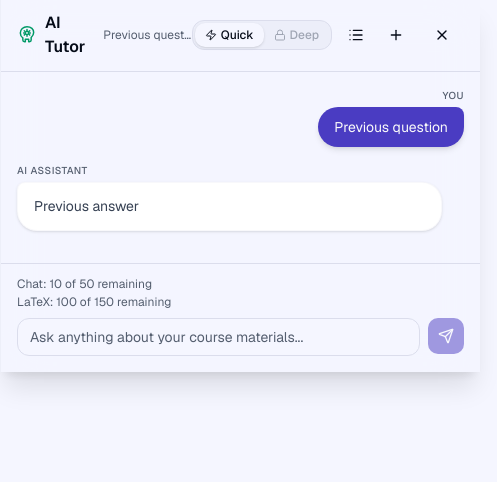
Test case: AiChatPanel › includes conversationId in the POST body when a conversation is loaded
Expected: the text "Previous question" is shown, 318,107 -> 464,147
Type "Follow-up question" into the field with placeholder "Ask anything about your course materials..." at (218, 337), box 17,318 -> 420,356
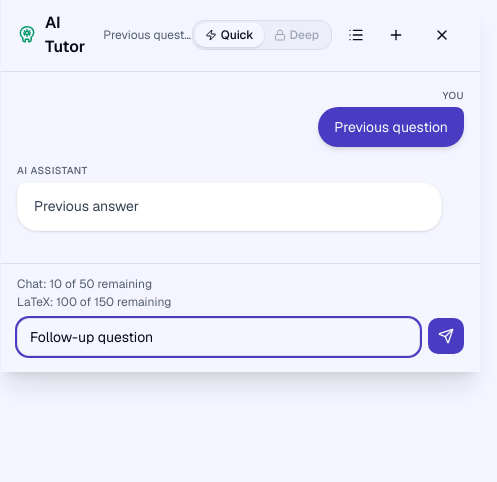
Submit the form with placeholder "Ask anything about your course materials...", box 17,318 -> 464,356
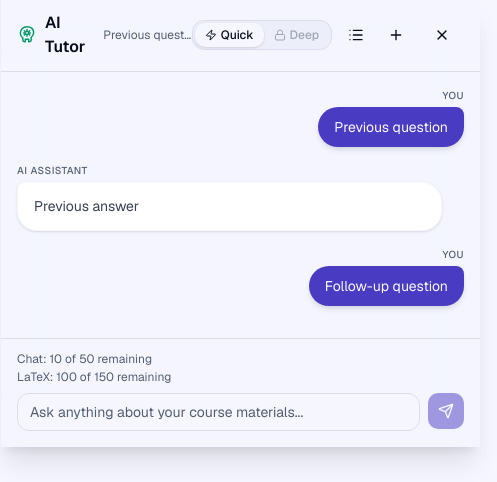
Expected: the text "Follow-up question" is shown, 309,266 -> 464,306
